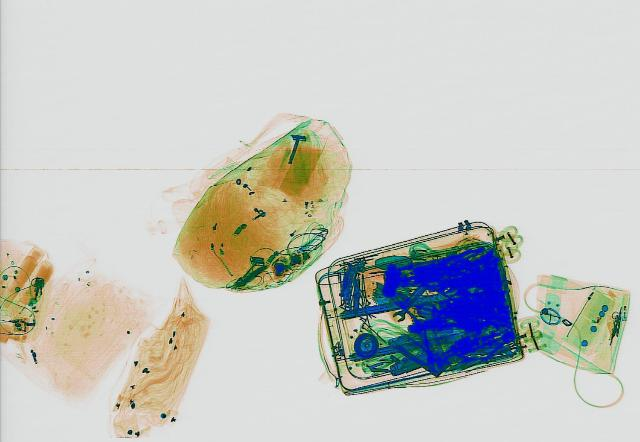Wrench: (386, 278, 432, 322)
